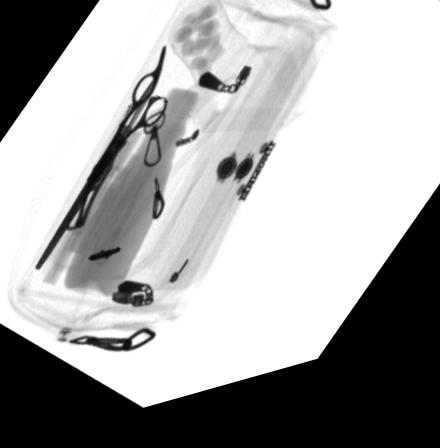Knife: (62, 79, 164, 234)
Scissors: (35, 53, 168, 272)
